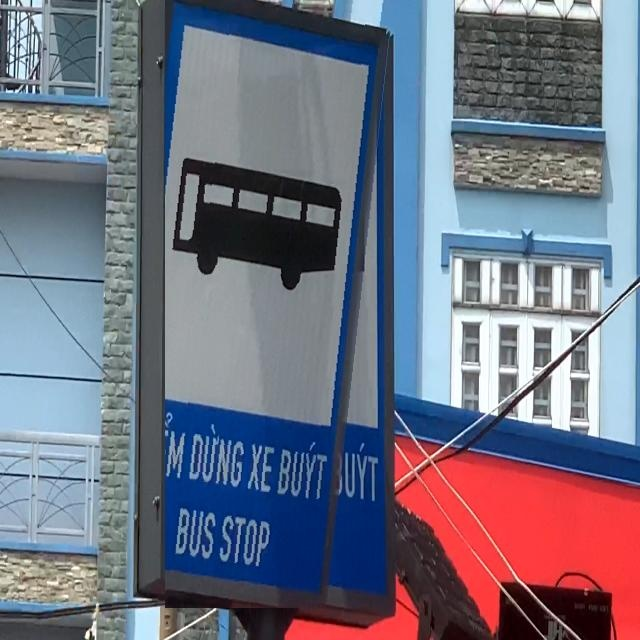bien_chi_dan: (165, 0, 394, 609)
